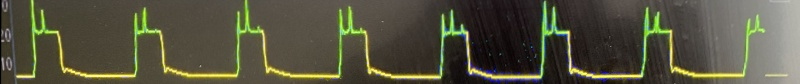hydrop_pressure: (13, 0, 786, 84)
